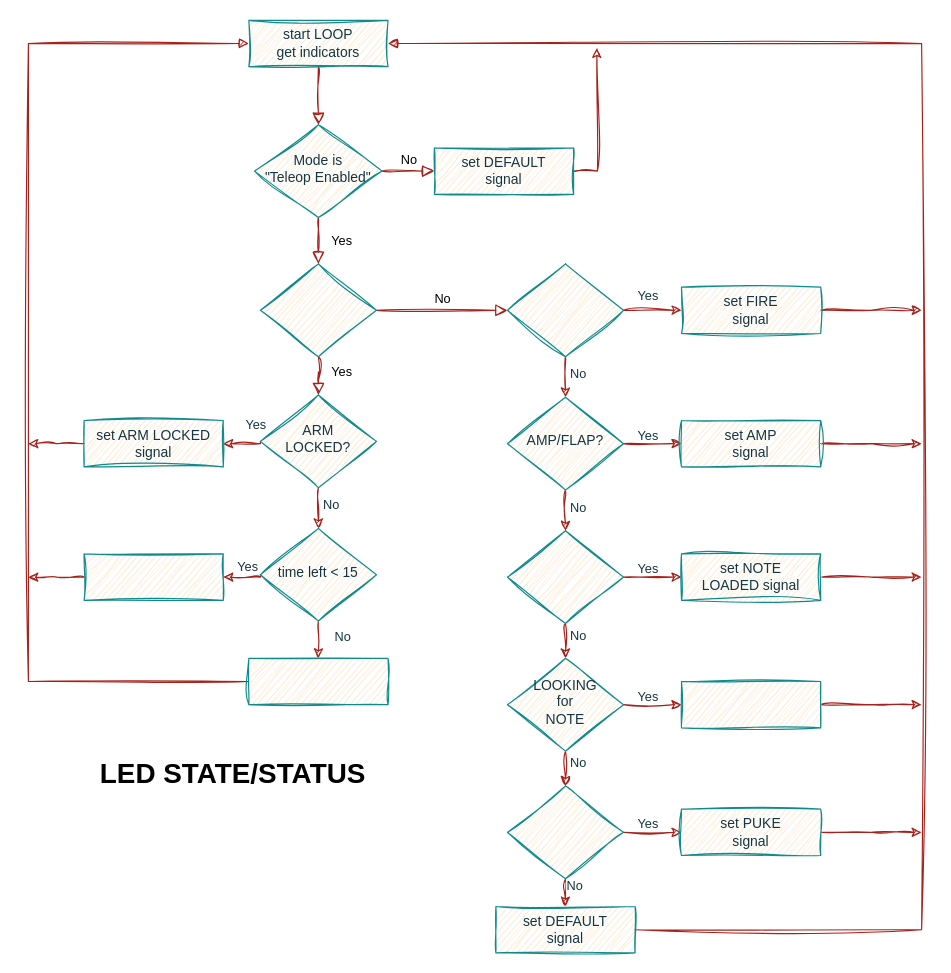
This 951x973 diagram has some shape labels left out. The centre of each missing label's shape, as x and y in pixels:
"FIRE?" goes at point (565, 310).
"NOTE LOADED?" goes at point (565, 577).
"REV INTAKE?" goes at point (565, 832).
"set END game 1 signal" goes at point (318, 681).
"set END game 2 signal" goes at point (153, 576).
"set INTAKE signal" goes at point (750, 704).
"time left < 30" goes at point (317, 310).
